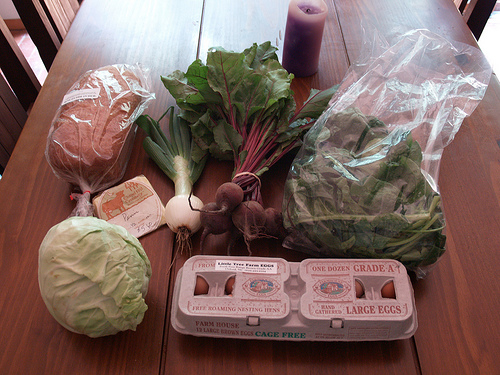cabbage: (38, 215, 151, 339)
